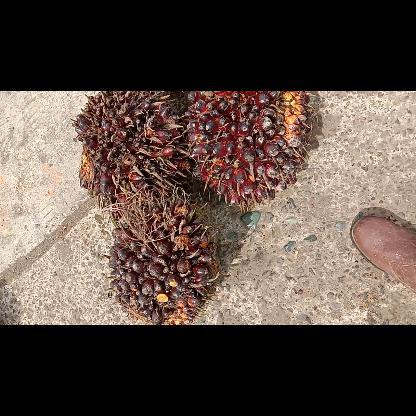Kurang masak: (71, 90, 191, 220), (186, 90, 316, 209), (104, 191, 220, 324)
